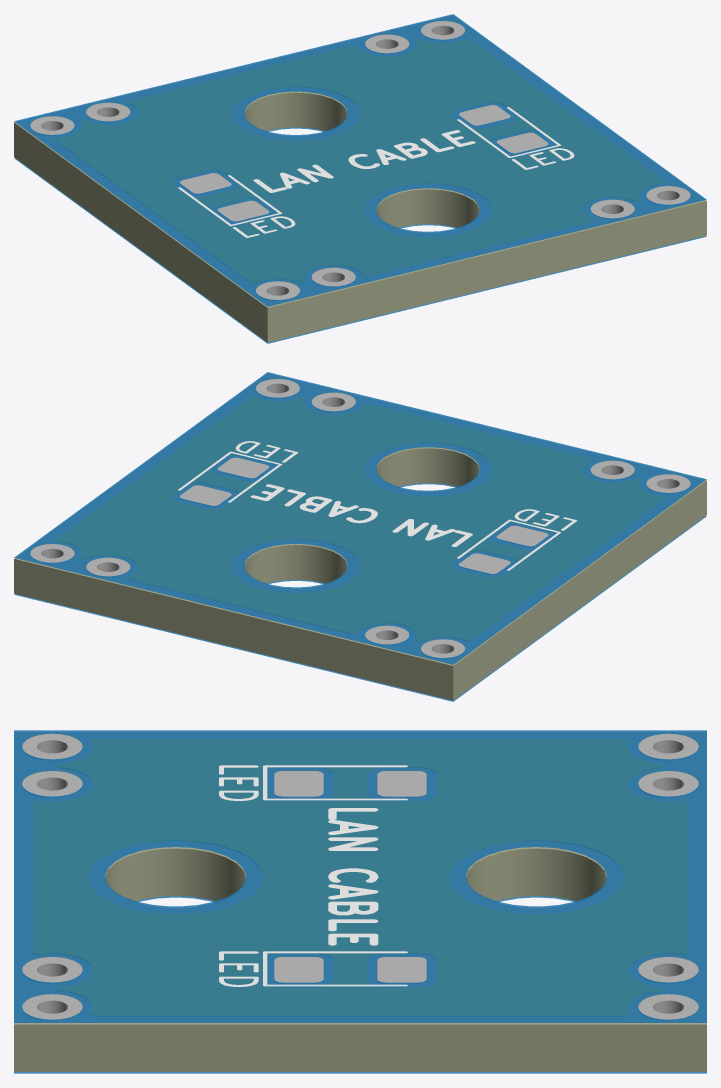
File: lan-cable-2024-minibadge.glb
The picture shows the model from 3 angles, top to bottom: view 1: azimuth 30°, elevation 25°; view 2: azimuth 150°, elevation 25°; view 3: azimuth 270°, elevation 25°; orthographic projection. The views are drawn at different scales.
Parts seen in each view (by area): view 1: =>[0:1:1:7], =>[0:1:1:2], =>[0:1:1:9], =>[0:1:1:5]; view 2: =>[0:1:1:7], =>[0:1:1:2], =>[0:1:1:9], =>[0:1:1:5]; view 3: =>[0:1:1:7], =>[0:1:1:2], =>[0:1:1:9], =>[0:1:1:5].
Part boxes in pixels (<box>): =>[0:1:1:7]: <box>14,14,706,343</box>; =>[0:1:1:2]: <box>30,21,690,300</box>; =>[0:1:1:9]: <box>14,16,706,342</box>; =>[0:1:1:5]: <box>178,107,574,237</box>; =>[0:1:1:7]: <box>14,372,706,701</box>; =>[0:1:1:2]: <box>30,379,690,658</box>; =>[0:1:1:9]: <box>14,374,706,700</box>; =>[0:1:1:5]: <box>178,441,577,570</box>; =>[0:1:1:7]: <box>14,730,706,1073</box>; =>[0:1:1:2]: <box>22,734,698,1020</box>; =>[0:1:1:9]: <box>14,732,706,1071</box>; =>[0:1:1:5]: <box>219,765,407,986</box>.
Bounding box in the file's own units: 0.02 × 0.00166 × 0.02.
4 materials, 4 textured.
